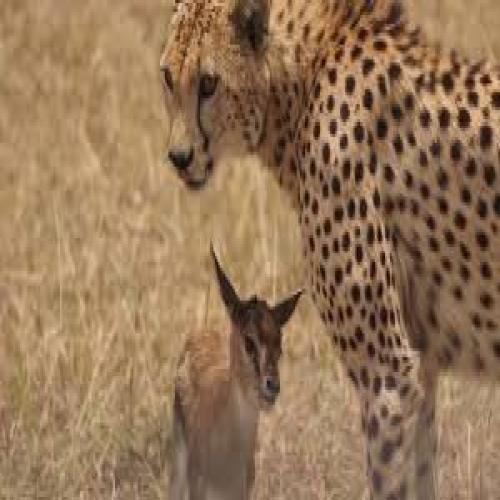cheetah-endangered: (155, 0, 500, 495)
